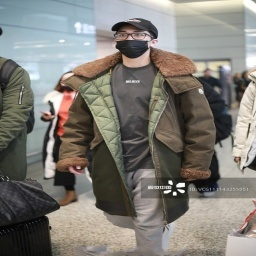correctlyWear: (113, 26, 157, 58)
